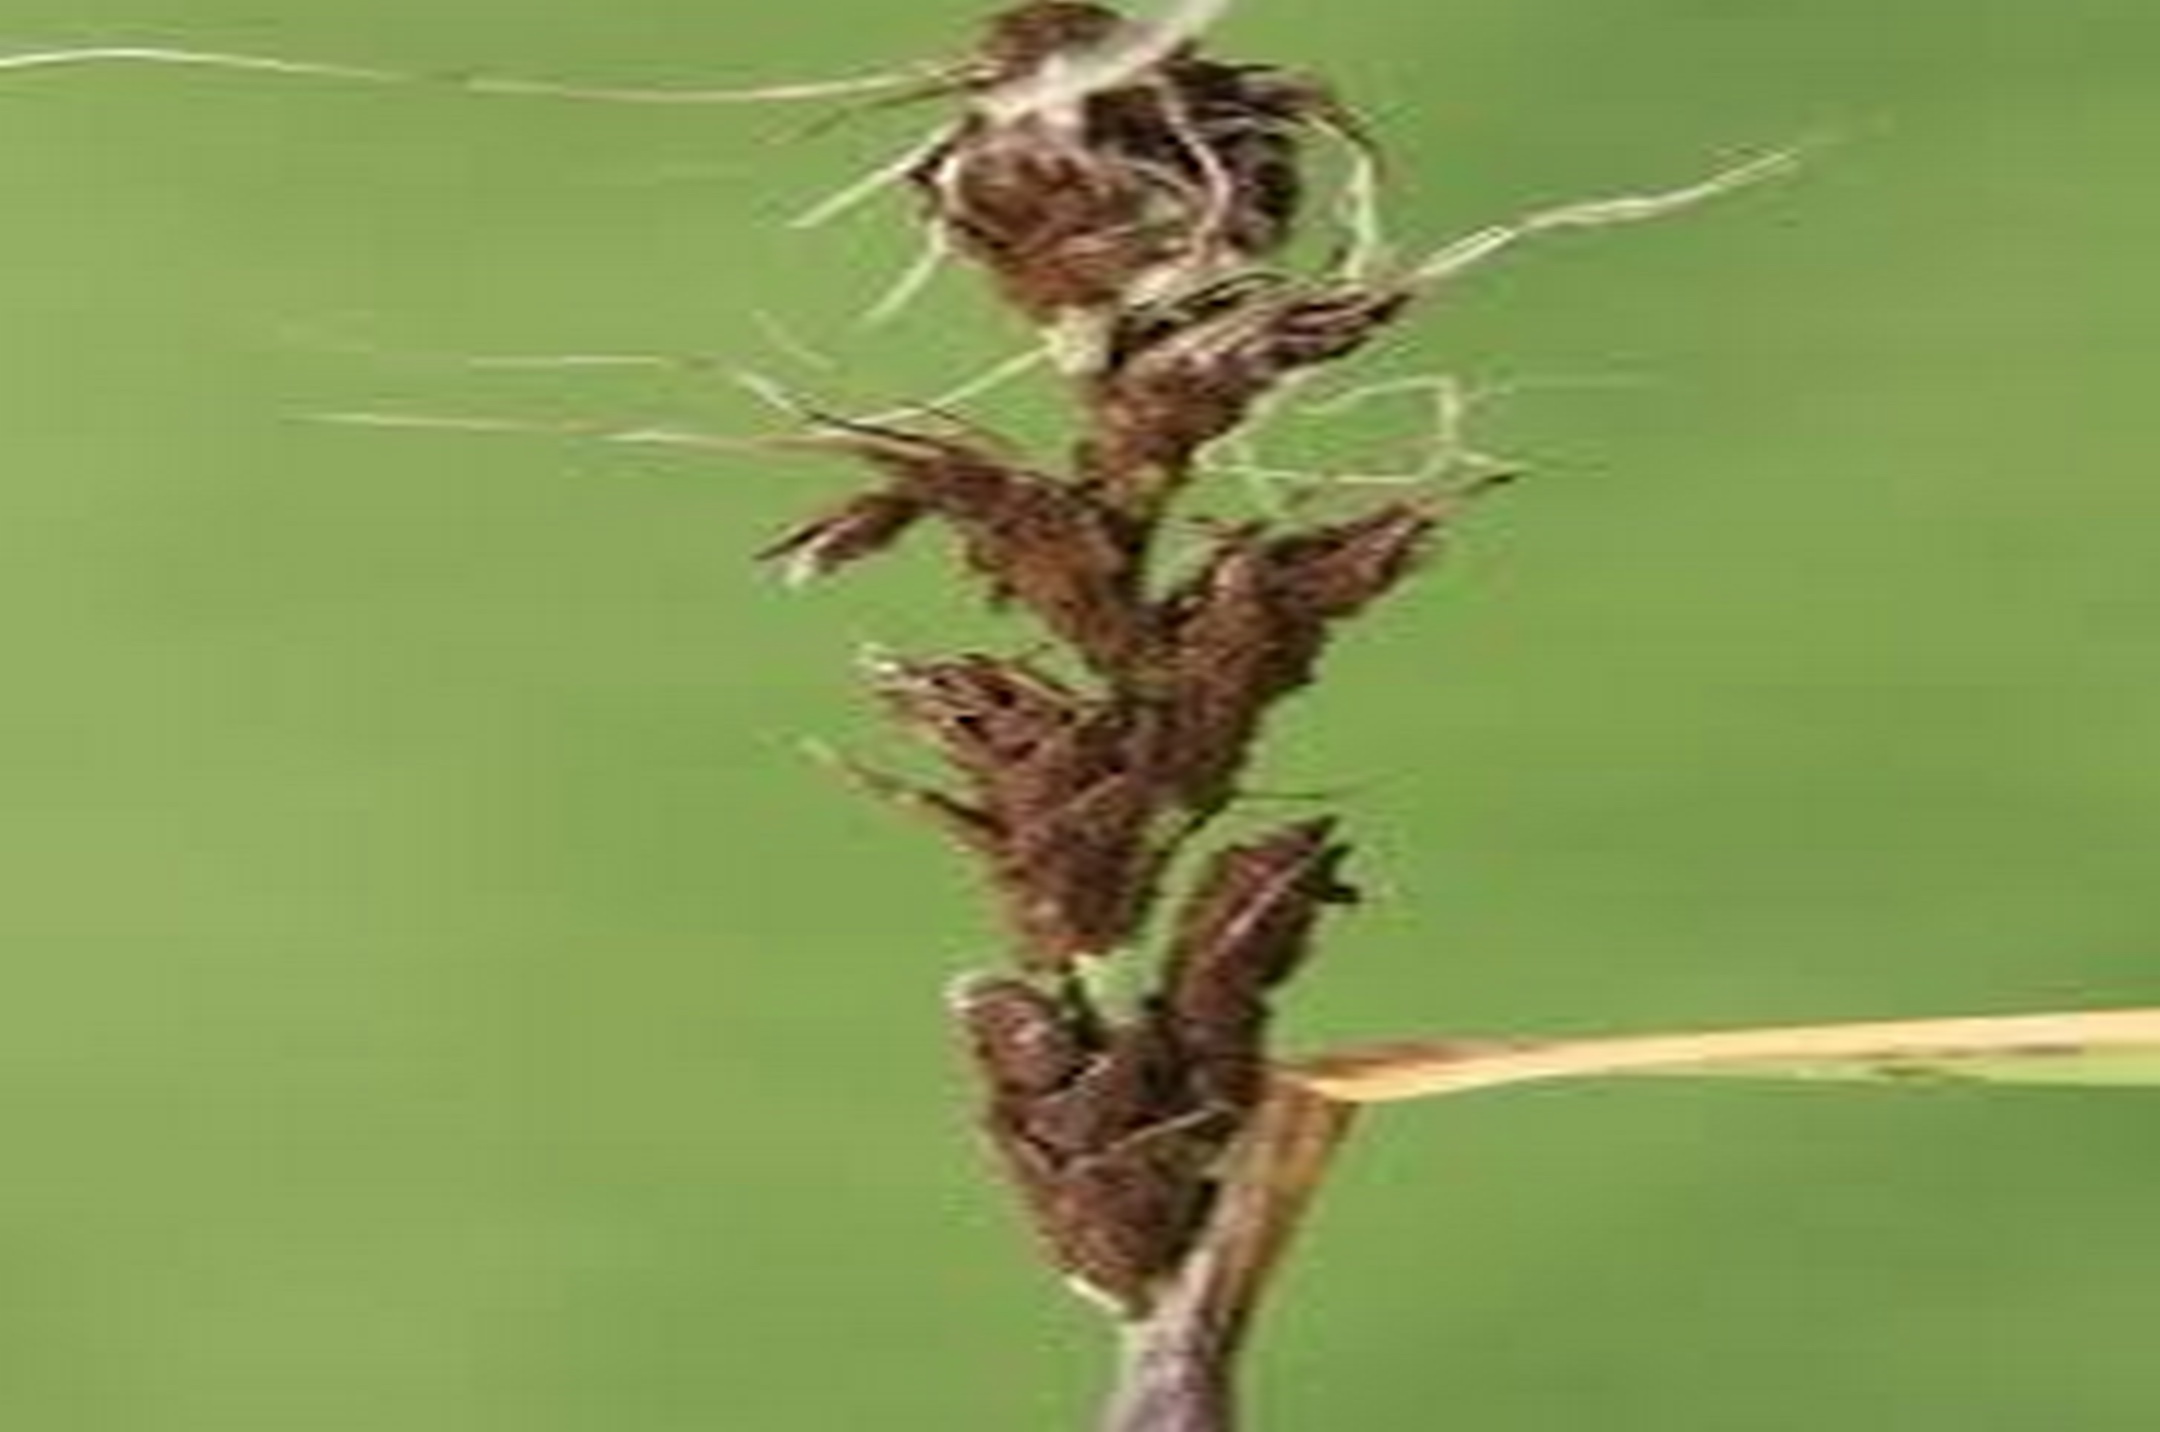Wheat Loose Smut: (804, 37, 1443, 1263)
